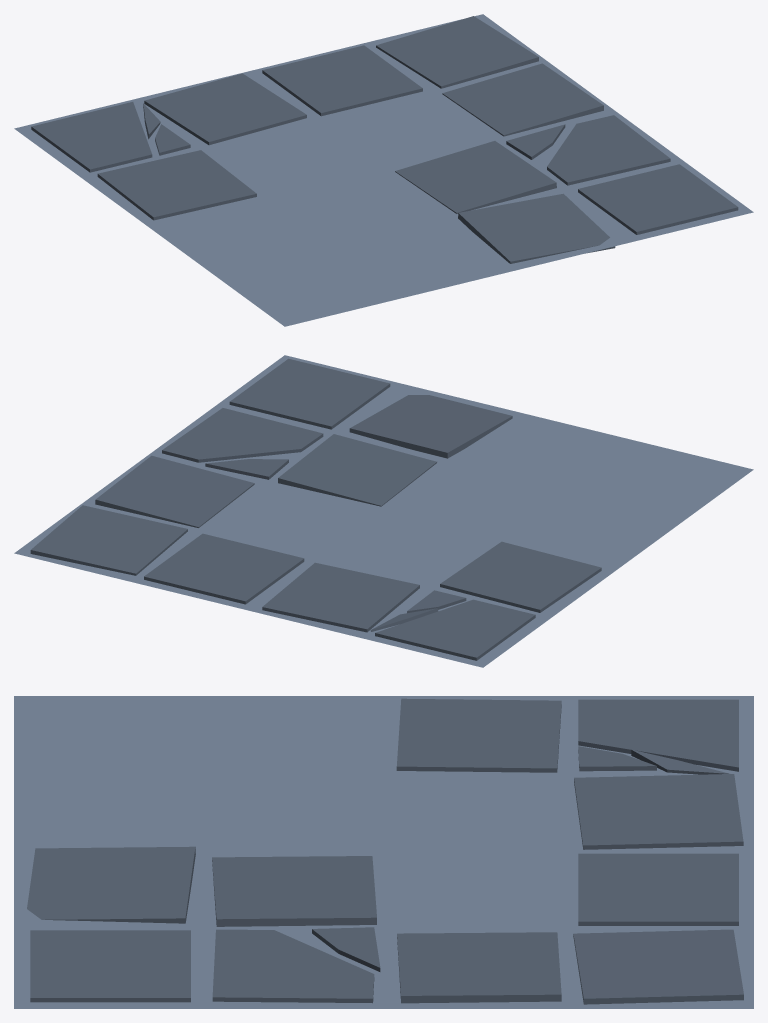
The model's file is FloorTile03.fbx.
3 renders of one model, top to bottom at view 1: azimuth 30°, elevation 25°; view 2: azimuth 150°, elevation 25°; view 3: azimuth 270°, elevation 25°, orthographic. The views are drawn at different scales.
Parts seen in each view (by area): view 1: Plane.000; view 2: Plane.000; view 3: Plane.000.
Part boxes in pixels (bbox=[...]): Plane.000: bbox=[14, 14, 753, 326]; Plane.000: bbox=[14, 355, 753, 667]; Plane.000: bbox=[14, 696, 753, 1008].
Size of the model in its own units: 800 by 20.99 by 800.
Materials: 1 (1 with a texture image).
